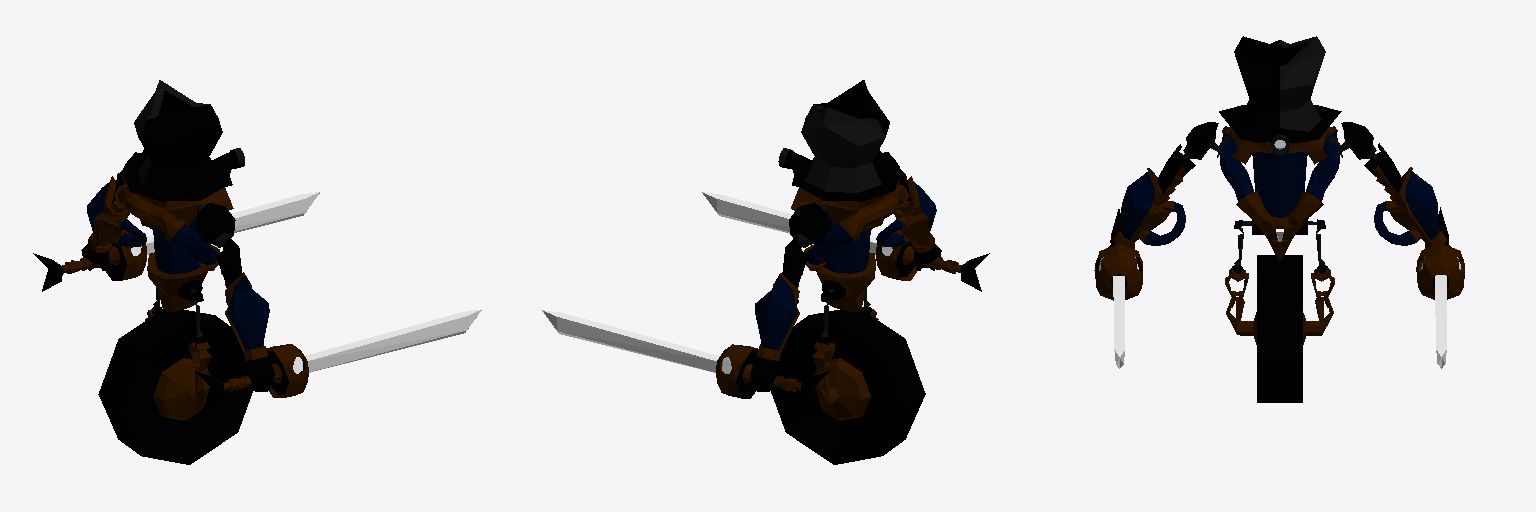
Rendered from karl_lowpoly.obj.
3 renders of one model, left to right at view 1: azimuth 30°, elevation 25°; view 2: azimuth 150°, elevation 25°; view 3: azimuth 270°, elevation 25°, orthographic.
Visible parts, largest first — view 1: Tubo_Central.001; view 2: Tubo_Central.001; view 3: Tubo_Central.001.
Part boxes in pixels (left/top/right/bottom): Tubo_Central.001: left=33, top=80, right=481, bottom=464; Tubo_Central.001: left=542, top=80, right=989, bottom=464; Tubo_Central.001: left=1094, top=36, right=1464, bottom=402.
Size of the model in its own units: 1.75 by 2.08 by 1.92.